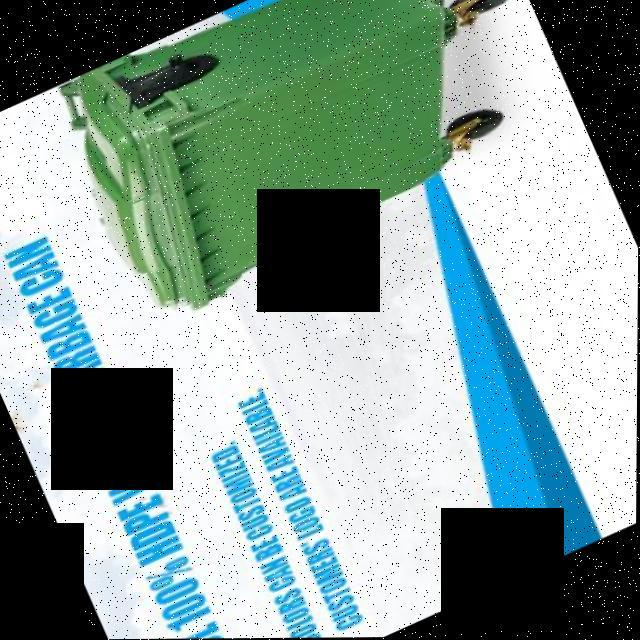bin: (33, 0, 592, 344)
